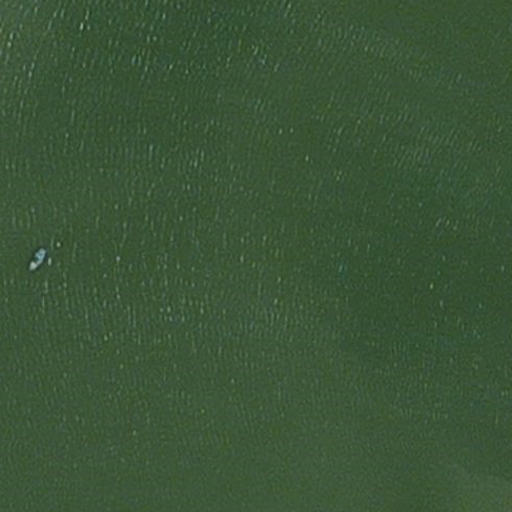ship: (27, 246, 47, 275)
